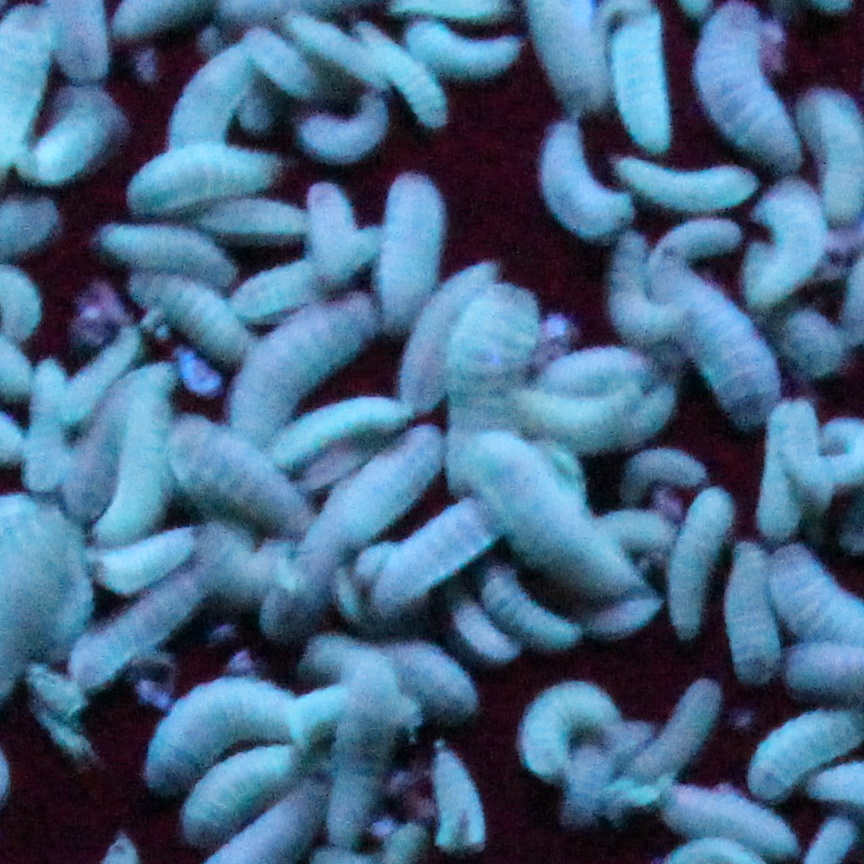larve: (473, 433, 641, 596), (237, 289, 382, 444), (444, 289, 542, 495), (659, 253, 781, 418), (690, 2, 804, 164), (146, 678, 299, 798), (93, 364, 184, 542), (322, 653, 404, 847), (170, 420, 310, 531), (70, 569, 208, 676), (124, 136, 301, 216), (373, 493, 510, 596), (395, 262, 490, 407), (177, 736, 301, 847), (537, 113, 624, 251), (121, 273, 255, 358), (661, 480, 730, 638), (513, 666, 612, 776), (659, 780, 801, 856), (357, 20, 452, 133), (264, 391, 404, 467), (346, 424, 446, 529), (177, 40, 257, 166), (90, 218, 235, 287), (632, 669, 722, 780), (382, 173, 444, 324), (39, 67, 117, 187), (426, 740, 502, 862), (599, 233, 682, 342), (613, 147, 753, 211), (477, 571, 588, 649), (726, 540, 784, 684), (291, 13, 390, 95), (759, 182, 821, 295), (510, 386, 635, 442), (61, 329, 135, 422), (244, 29, 337, 102), (302, 169, 361, 282), (291, 98, 395, 162), (408, 24, 532, 76), (533, 344, 655, 391), (199, 195, 310, 244), (610, 446, 713, 493), (28, 356, 57, 486)
